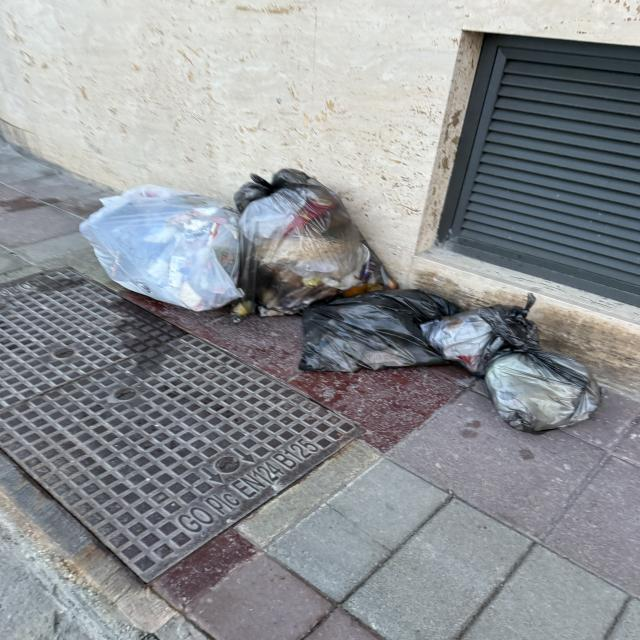Mixed Waste -Black Bags-: (232, 167, 601, 433)
Recyclable Material -Grey Bags-: (79, 185, 243, 310)
